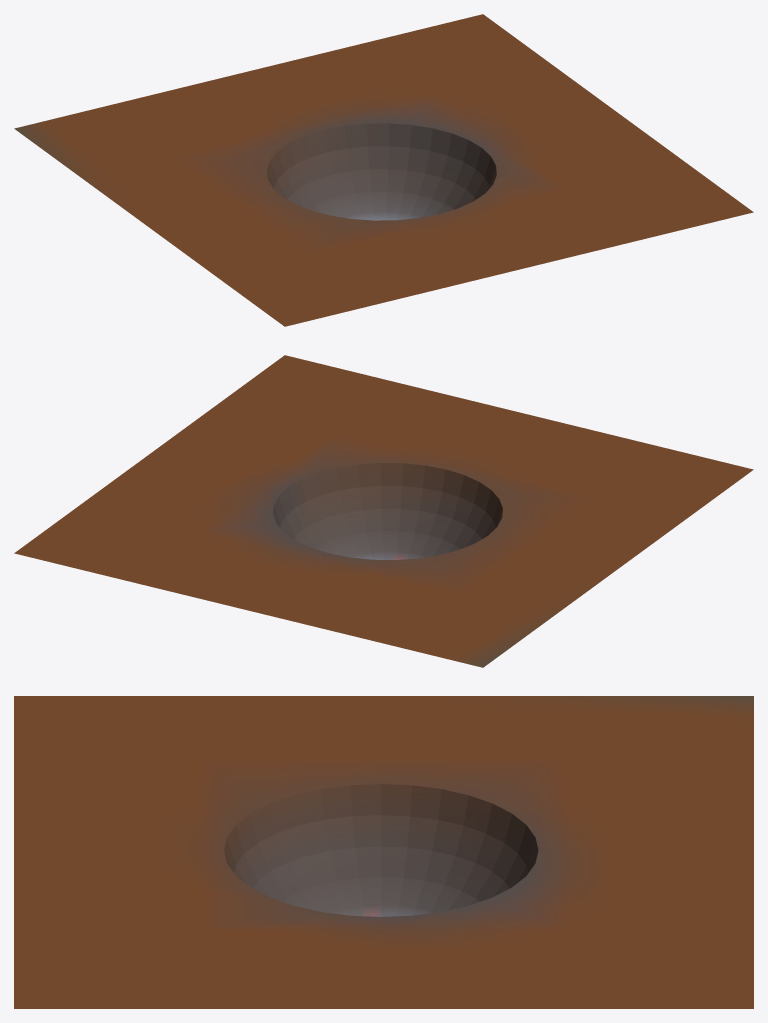
The model's file is pool.fbx.
3 views of the same model, one above another, from view 1: azimuth 30°, elevation 25°; view 2: azimuth 150°, elevation 25°; view 3: azimuth 270°, elevation 25° (orthographic). The views are drawn at different scales.
Visible parts, largest first — view 1: Sphere; view 2: Sphere; view 3: Sphere.
Part boxes in pixels (box(x1,y1,x2,y2)): Sphere: box(14, 14, 753, 326); Sphere: box(14, 355, 753, 667); Sphere: box(14, 696, 753, 1008).
Size of the model in its own units: 21.27 by 3.71 by 21.27.
